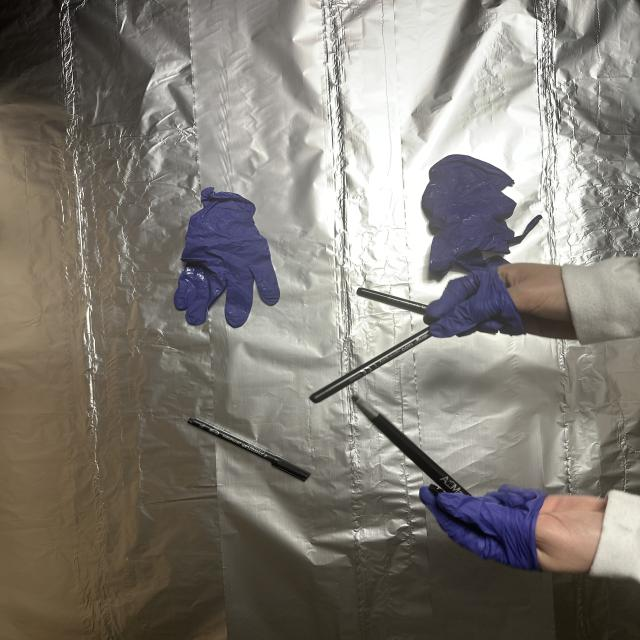glove_partial: (415, 483, 607, 572), (418, 260, 580, 343)
